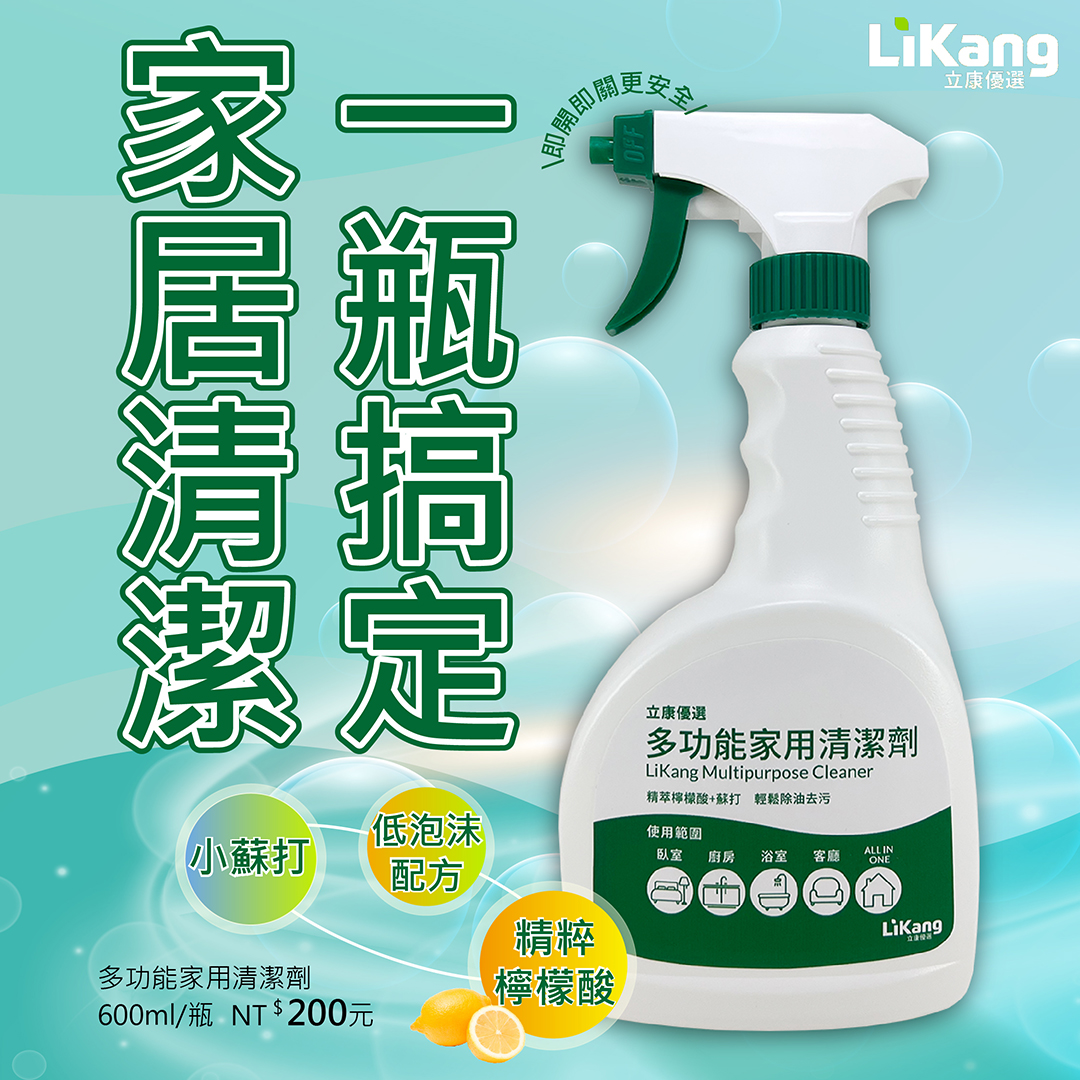cleaner: (551, 102, 990, 1033)
